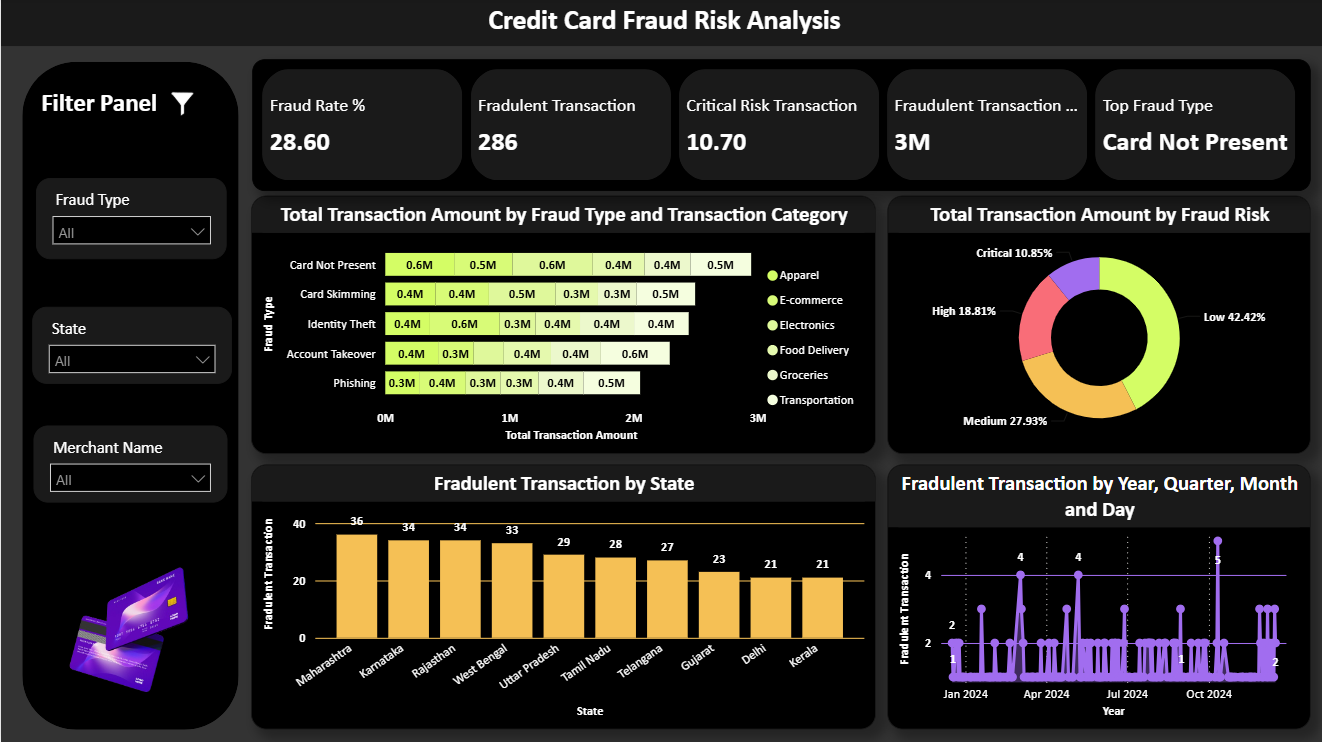

This screenshot's page, from the dashboard's own definition file:
{"tool":"powerbi","page":{"name":"Page 1","canvas":[1280,720],"ordinal":0},"visuals":[{"type":"textbox","box":[0,0,1280.6,46.3],"z":0},{"type":"shape","box":[20.9,61.2,209,644.8],"z":1000},{"type":"textbox","box":[34.3,80.6,141.8,46.3],"z":2000},{"type":"image","box":[144.8,80.6,61.2,43.3],"z":3000},{"type":"barChart","fields":{"Category":["Credit Card Fraud Risk Analysis.Fraud Type"],"Series":["Credit Card Fraud Risk Analysis.Transaction Category"],"Y":["Credit Card Fraud Risk Analysis.Total Transaction Amount"]},"box":[241.8,191,603,249.3],"z":4000},{"type":"donutChart","fields":{"Category":["Credit Card Fraud Risk Analysis.Fraud Risk"],"Y":["Credit Card Fraud Risk Analysis.Total Transaction Amount"]},"box":[855.2,191,409,249.3],"z":5000},{"type":"columnChart","fields":{"Category":["Credit Card Fraud Risk Analysis.State"],"Y":["Credit Card Fraud Risk Analysis.Fradulent Transaction"]},"box":[241.4,450,602.9,255.7],"z":6000},{"type":"lineChart","fields":{"Category":["Credit Card Fraud Risk Analysis.Transaction Date.Variation.Date Hierarchy.Year","Credit Card Fraud Risk Analysis.Transaction Date.Variation.Date Hierarchy.Quarter","Credit Card Fraud Risk Analysis.Transaction Date.Variation.Date Hierarchy.Month","Credit Card Fraud Risk Analysis.Transaction Date.Variation.Date Hierarchy.Day"],"Y":["Credit Card Fraud Risk Analysis.Fradulent Transaction"]},"box":[855.7,450,408.6,255.7],"z":7000},{"type":"slicer","fields":{"Values":["Credit Card Fraud Risk Analysis.Fraud Type"]},"box":[34.3,174.3,184.3,78.6],"z":8000},{"type":"slicer","fields":{"Values":["Credit Card Fraud Risk Analysis.State"]},"box":[30,298.6,192.9,74.3],"z":9000},{"type":"slicer","fields":{"Values":["Credit Card Fraud Risk Analysis.Merchant Name"]},"box":[31.4,412.9,187.1,74.3],"z":10000},{"type":"image","box":[0,530,191.4,162.9],"z":11000},{"type":"cardVisual","fields":{"Data":["Credit Card Fraud Risk Analysis.Fraud Rate %","Credit Card Fraud Risk Analysis.Fradulent Transaction","Credit Card Fraud Risk Analysis.Critical Risk Transaction","Credit Card Fraud Risk Analysis.Fraudulent Transaction Amount","Credit Card Fraud Risk Analysis.Top Fraud Type"]},"box":[242.9,58.6,1021.4,127.1],"z":12000}]}

Visuals, with their boxes in screenshot pixels (x1, y1, x2, y2), scaled from the page's 1280x720 canvas onto the 1322x742 screenshot:
textbox: 0:0:1321:48
shape: 22:63:237:728
textbox: 35:83:182:131
image: 150:83:213:128
barChart - Credit Card Fraud Risk Analysis.Fraud Type x Credit Card Fraud Risk Analysis.Transaction Category: 250:197:873:454
donutChart - Credit Card Fraud Risk Analysis.Fraud Risk x Credit Card Fraud Risk Analysis.Total Transaction Amount: 883:197:1306:454
columnChart - Credit Card Fraud Risk Analysis.State x Credit Card Fraud Risk Analysis.Fradulent Transaction: 249:464:872:727
lineChart - Credit Card Fraud Risk Analysis.Transaction Date.Variation.Date Hierarchy.Year x Credit Card Fraud Risk Analysis.Transaction Date.Variation.Date Hierarchy.Quarter: 884:464:1306:727
slicer - Credit Card Fraud Risk Analysis.Fraud Type: 35:180:226:261
slicer - Credit Card Fraud Risk Analysis.State: 31:308:230:384
slicer - Credit Card Fraud Risk Analysis.Merchant Name: 32:426:226:502
image: 0:546:198:714
cardVisual - Credit Card Fraud Risk Analysis.Fraud Rate % x Credit Card Fraud Risk Analysis.Fradulent Transaction: 251:60:1306:191
